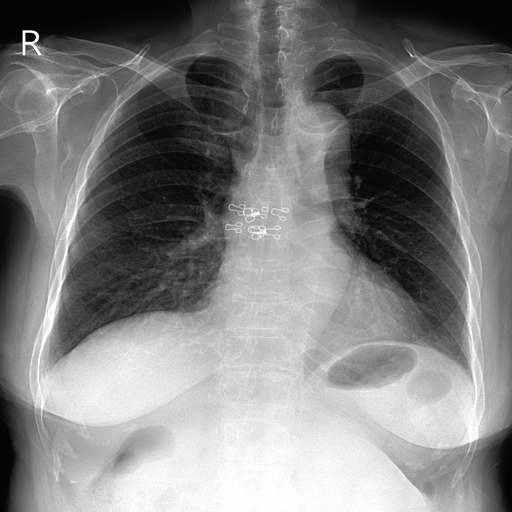Calcification: (328, 53, 382, 60)
Consolidation: (283, 102, 352, 160)
Nodule/Mass: (198, 282, 428, 349)
